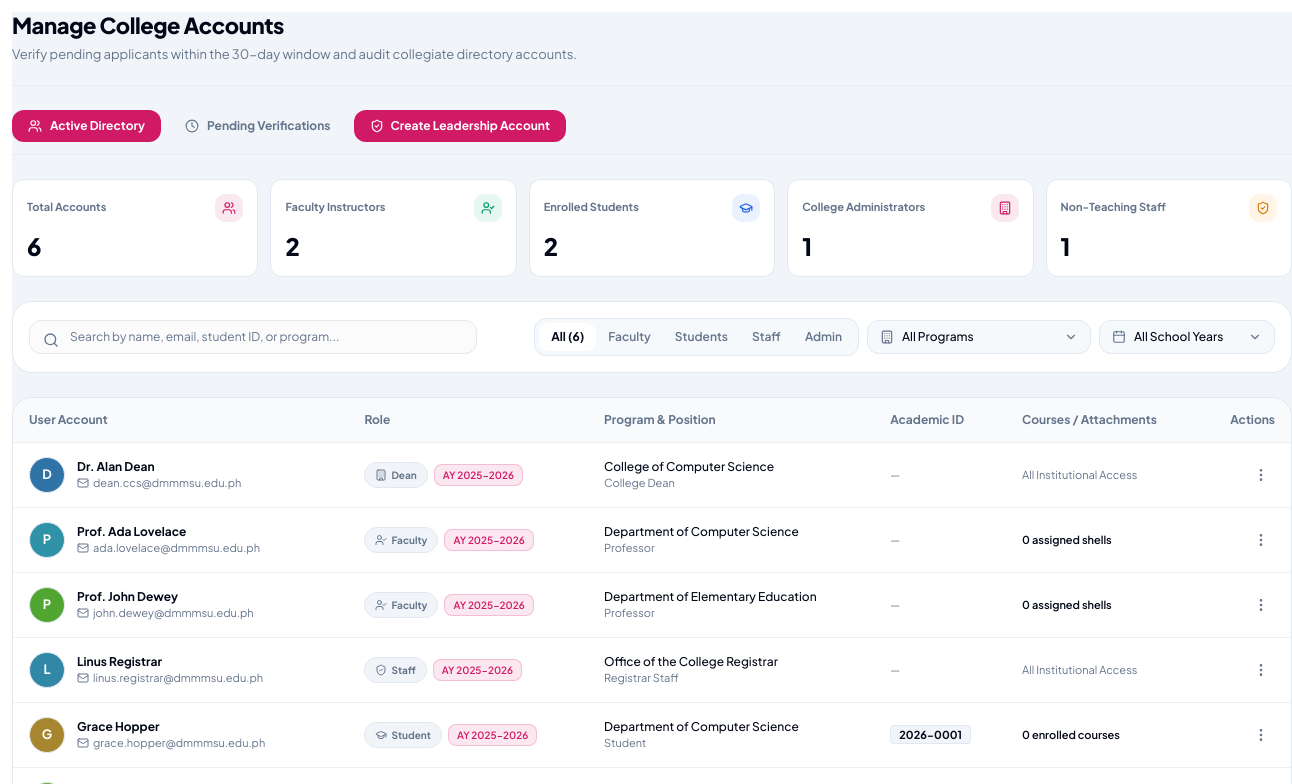
Test case: ManageAccountsPage - Dean Access & Full Collegiate Scoping › When viewing as Chancellor (superadmin) › includes departments from all colleges in department filter
The width and height of the screenshot is (1292, 784).
Click the button "All Programs" at (979, 337), box [867,320,1091,354]
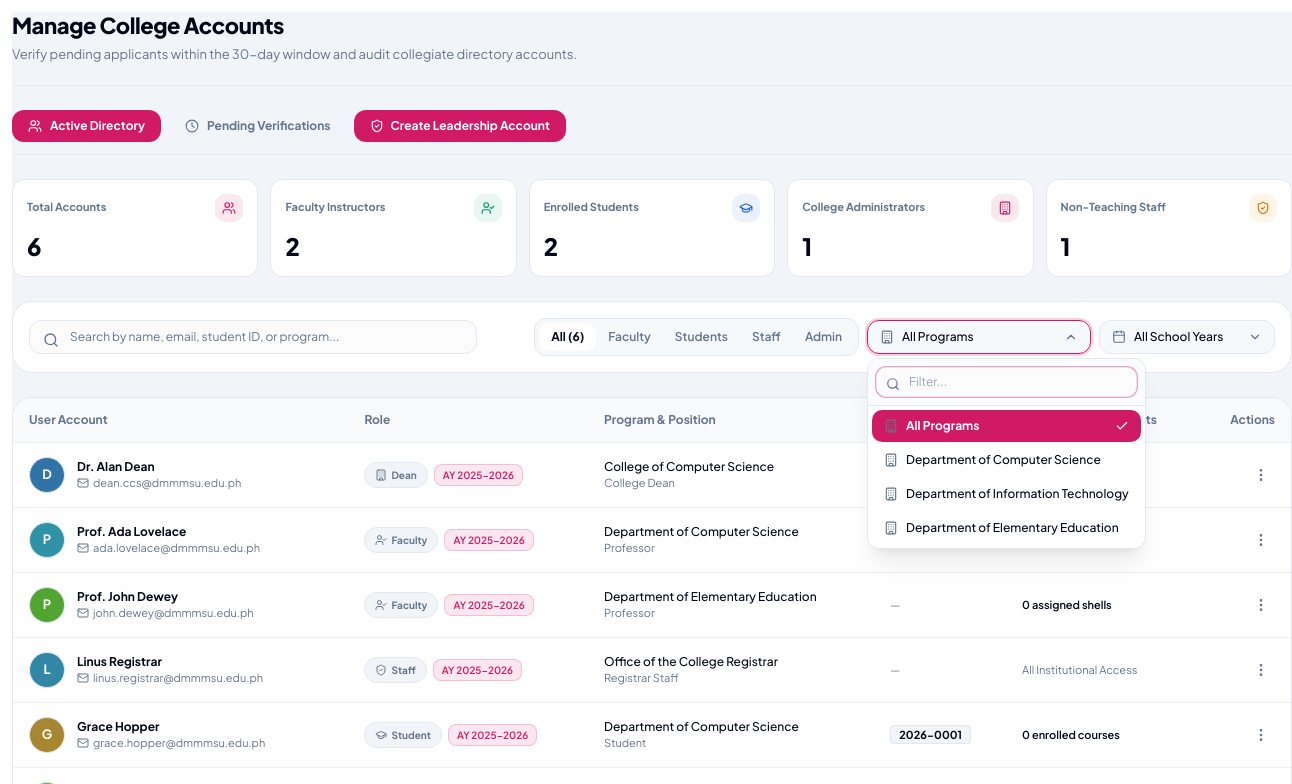
Expected: the option "Department of Computer Science" is shown, [872,444,1141,476]
Expected: the option "Department of Information Technology" is shown, [872,478,1141,510]
Expected: the option "Department of Elementary Education" is shown, [872,512,1141,544]
